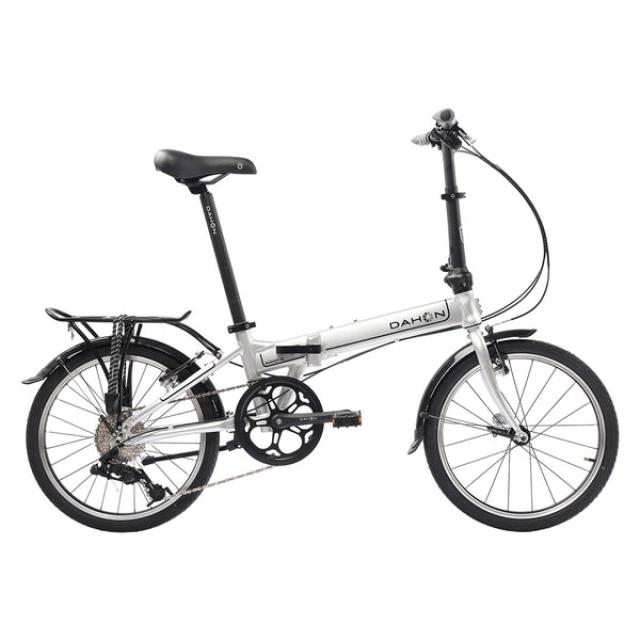folding-bike: (17, 104, 620, 533)
